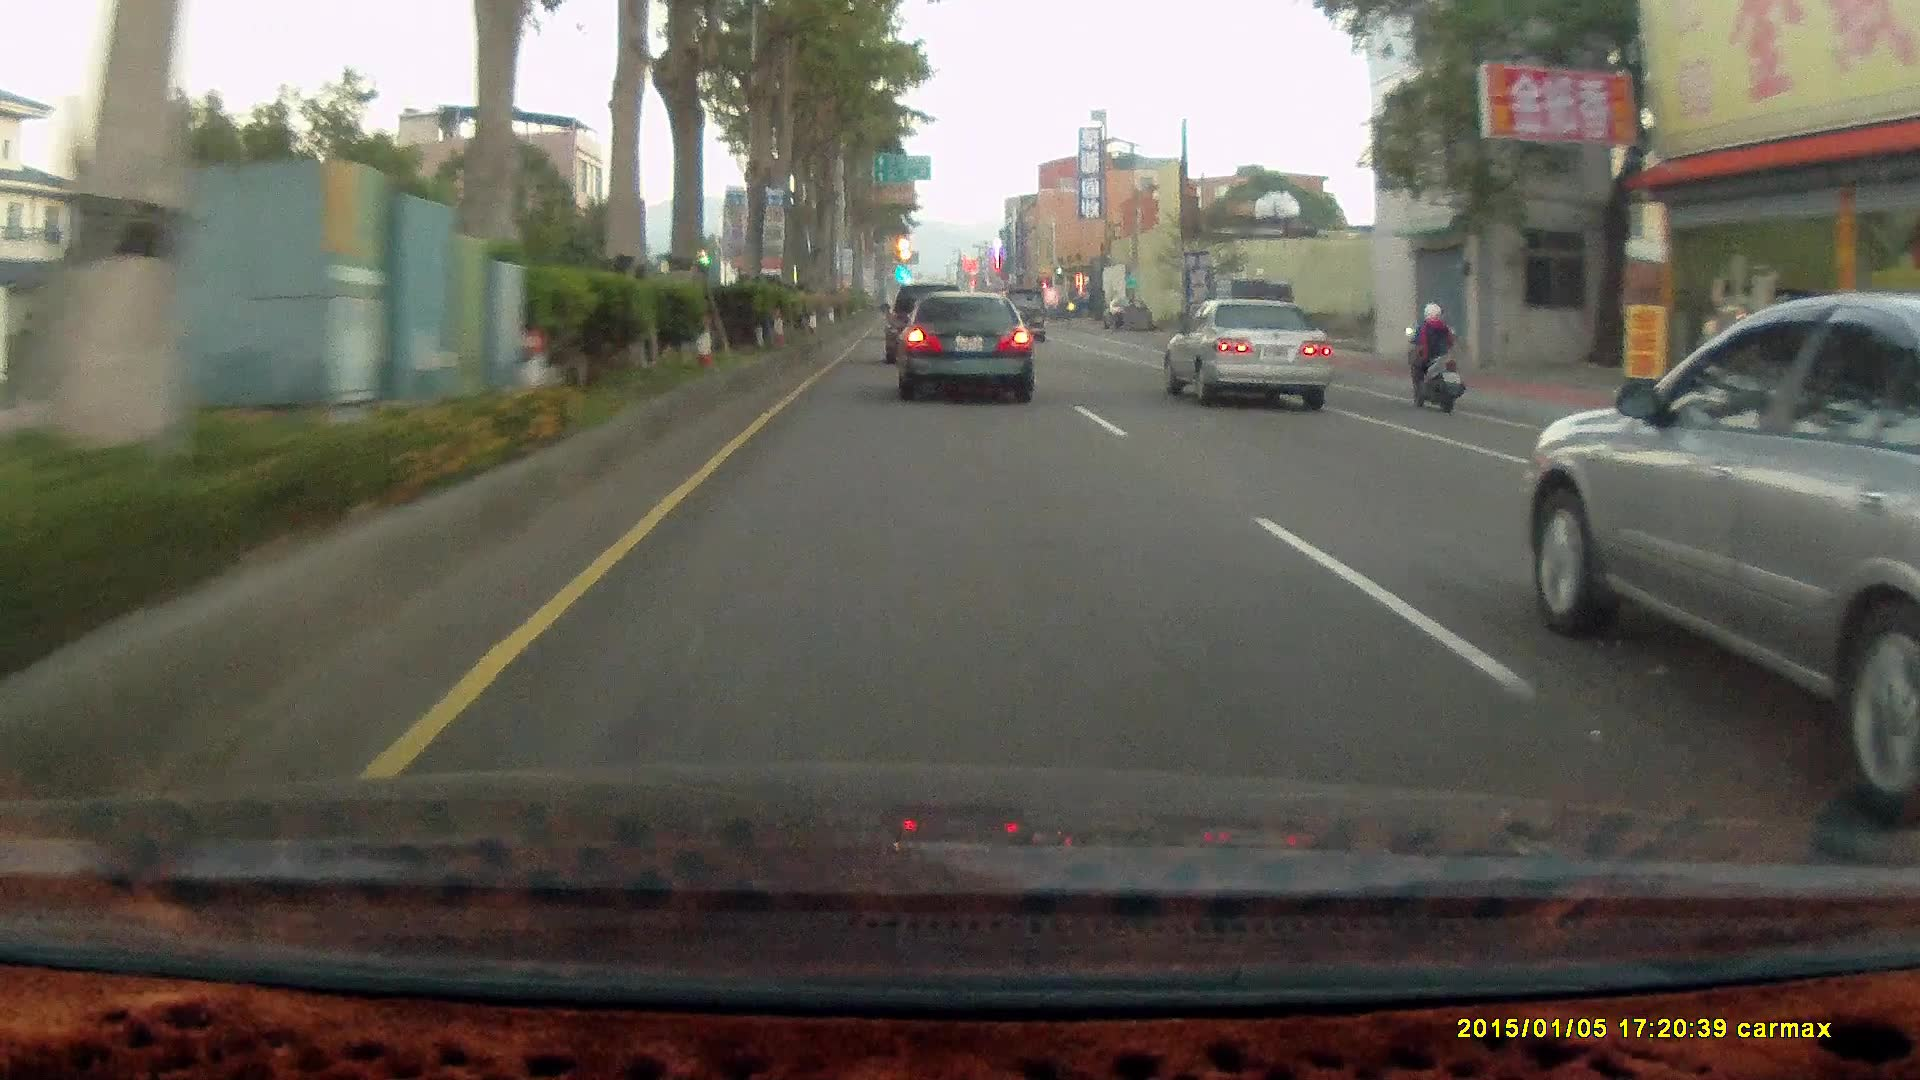rider: (1395, 294, 1474, 419), (1402, 292, 1467, 407)
vehicle: (1521, 292, 1920, 829), (1161, 297, 1333, 413), (1171, 299, 1332, 403), (896, 290, 1036, 402), (897, 289, 1036, 400), (885, 282, 973, 365), (1208, 280, 1293, 358), (882, 281, 964, 361), (999, 288, 1046, 343)
